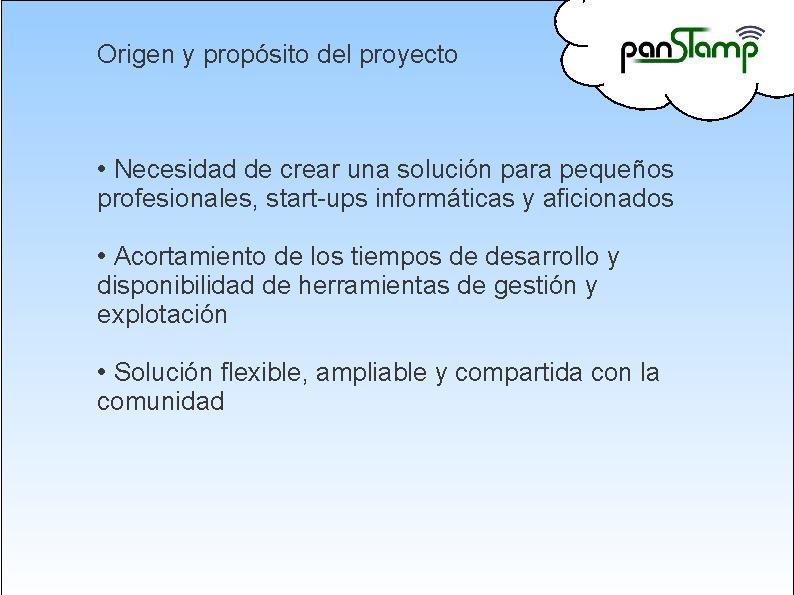paragraph: (87, 134, 705, 435)
title: (86, 32, 480, 83)
